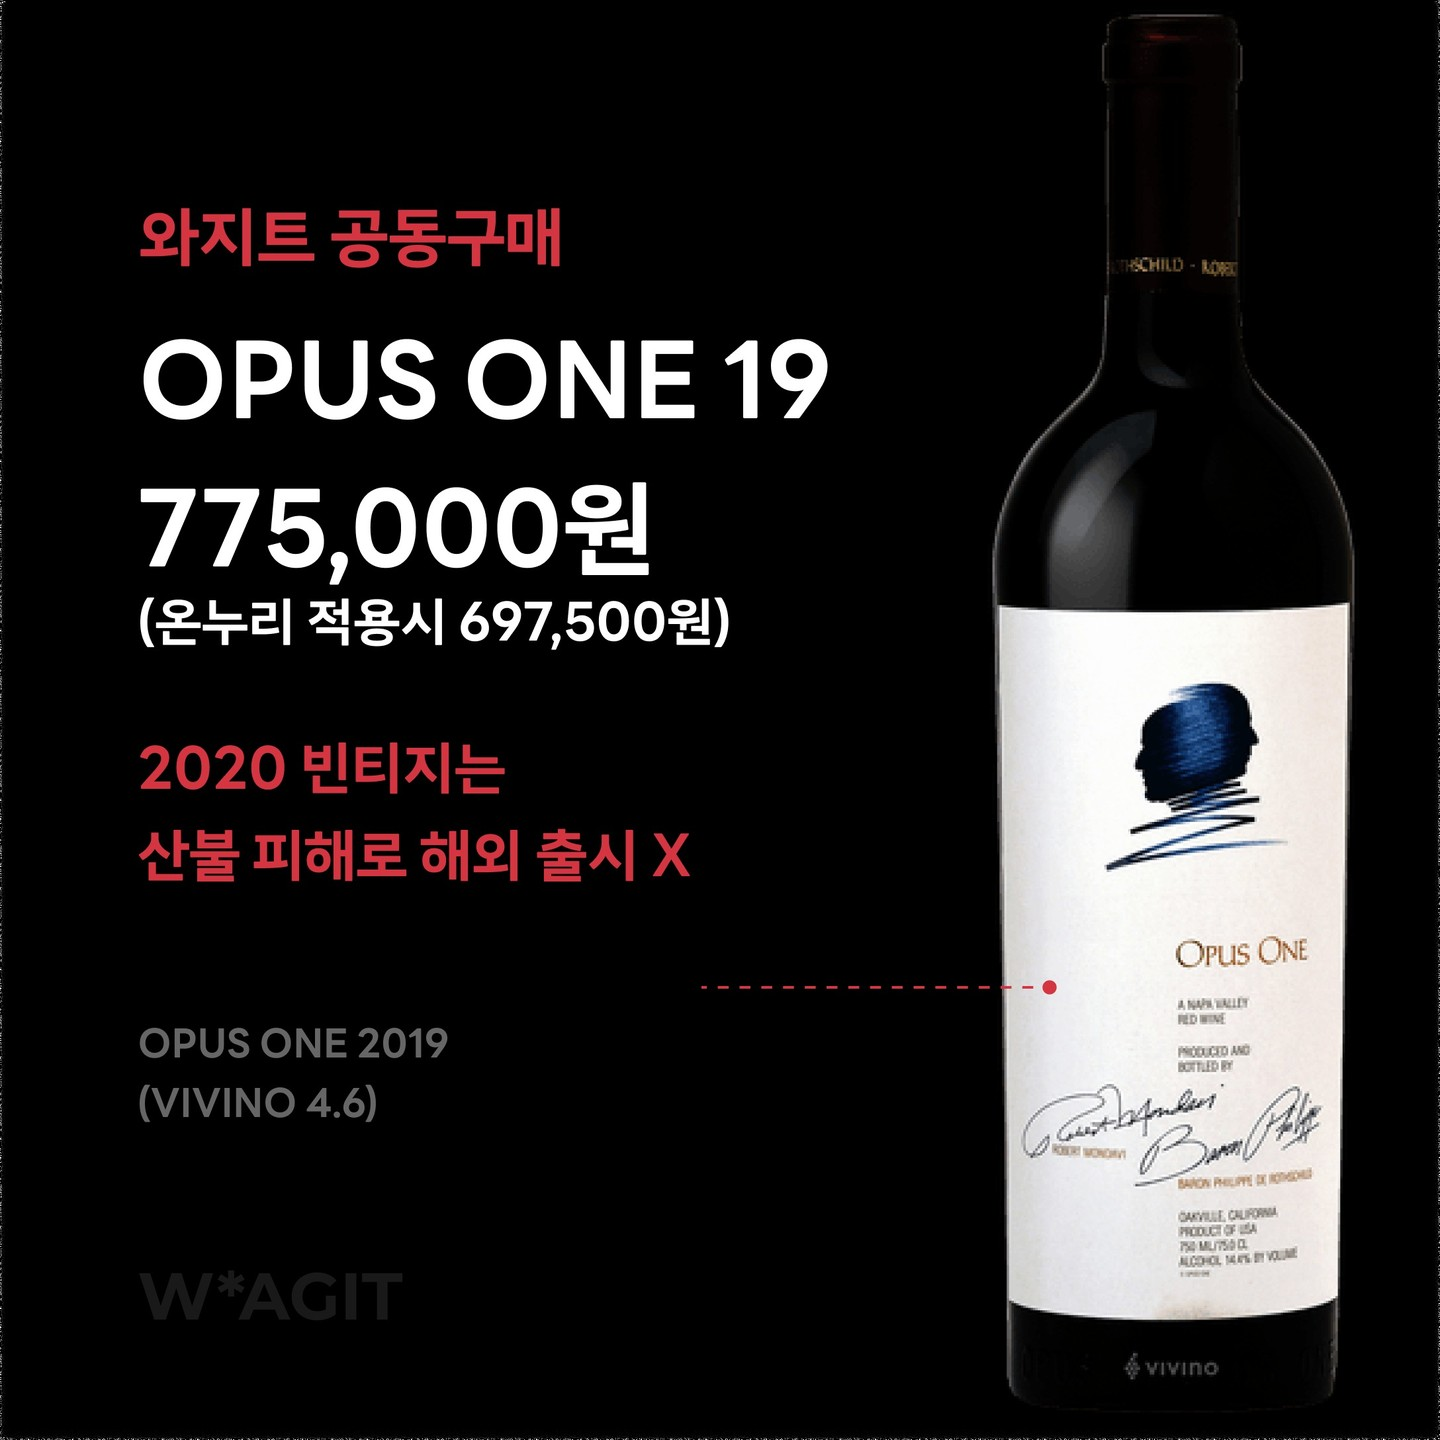alcohol: (984, 4, 1362, 1429)
